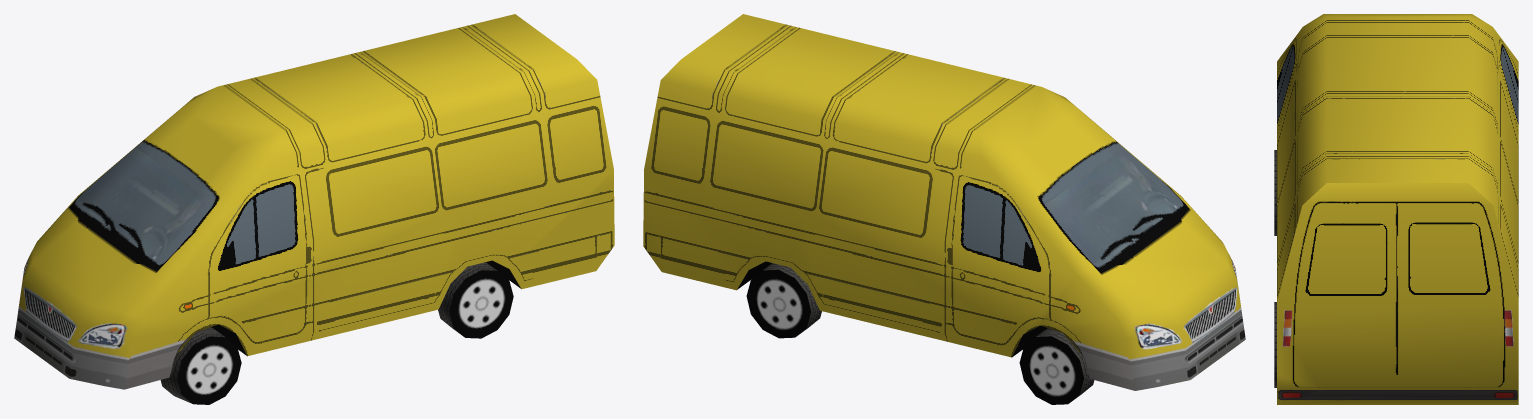
Rendered from gazel.FBX.
The picture shows the model from 3 angles, left to right: view 1: azimuth 30°, elevation 25°; view 2: azimuth 150°, elevation 25°; view 3: azimuth 270°, elevation 25°; orthographic projection. The views are drawn at different scales.
Visible parts, largest first — view 1: gazel; view 2: gazel; view 3: gazel.
Boxes of the visible parts, <box> form: gazel: <box>14,14,614,404</box>; gazel: <box>643,14,1245,404</box>; gazel: <box>1274,14,1518,404</box>.
Size of the model in its own units: 770 by 330 by 274.
